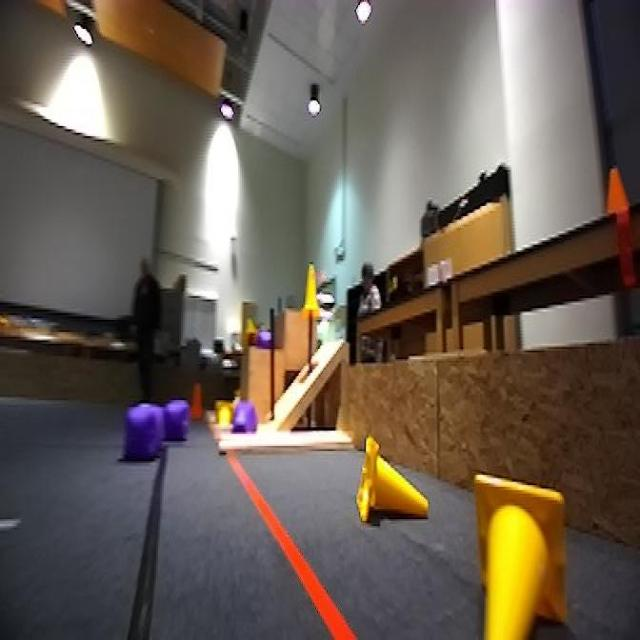frc_cone: (466, 471, 570, 640), (354, 438, 432, 534), (305, 257, 331, 332), (213, 404, 238, 431)
frc_cube: (121, 405, 163, 460), (162, 397, 189, 446), (230, 400, 253, 431), (254, 328, 274, 346)
